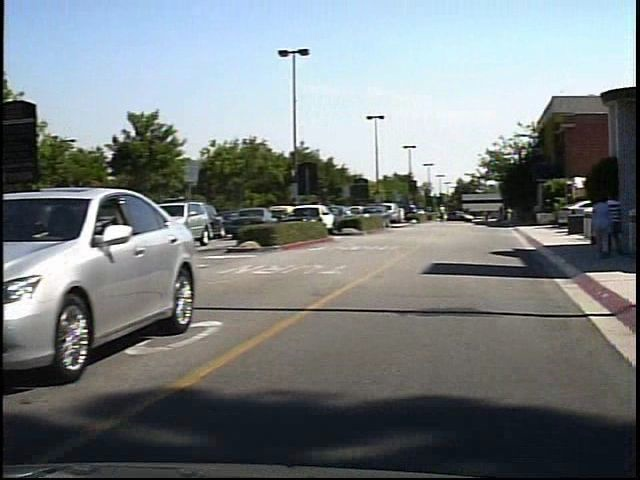person: (446, 205, 458, 225)
